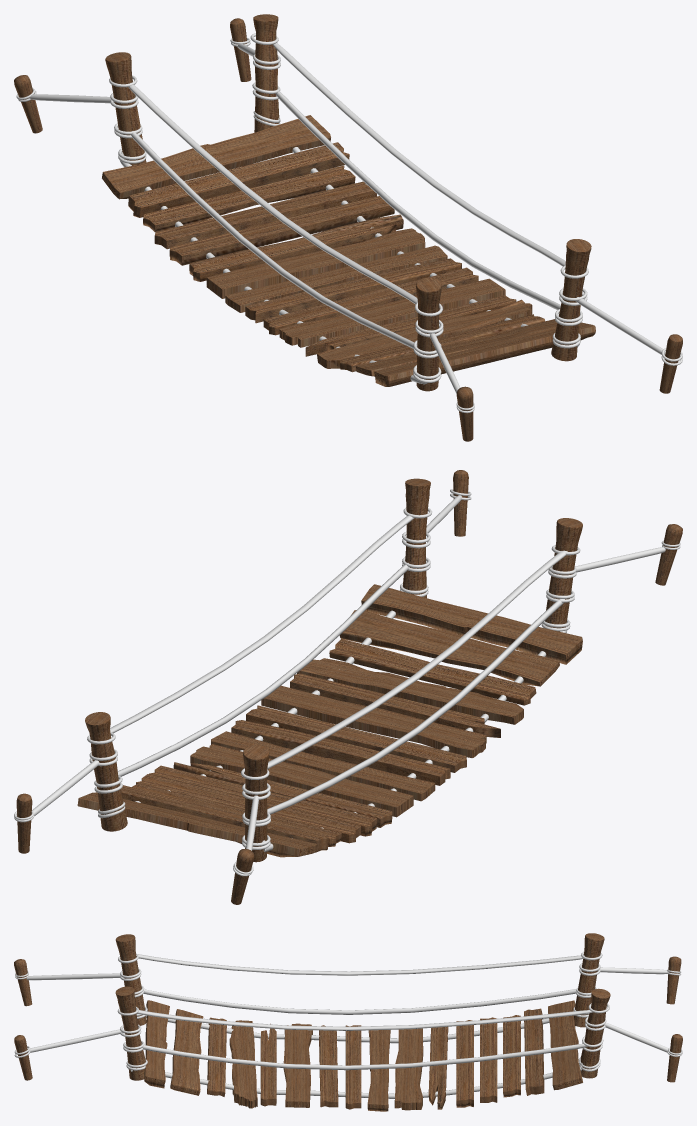
File: ropebridge 2.fbx
3 views of the same model, one above another, from view 1: azimuth 30°, elevation 25°; view 2: azimuth 150°, elevation 25°; view 3: azimuth 270°, elevation 25° (orthographic). The views are drawn at different scales.
Visible parts, largest first — view 1: pCube57; view 2: pCube57; view 3: pCube57.
Part boxes in pixels (x1=…): pCube57: x1=14, y1=14, x2=682, y2=441; pCube57: x1=14, y1=470, x2=682, y2=904; pCube57: x1=14, y1=933, x2=682, y2=1111.
Size of the model in its own units: 11.84 by 6.97 by 38.18.
4 materials, 3 textured.
